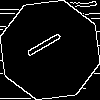I: (25, 25, 71, 60)
